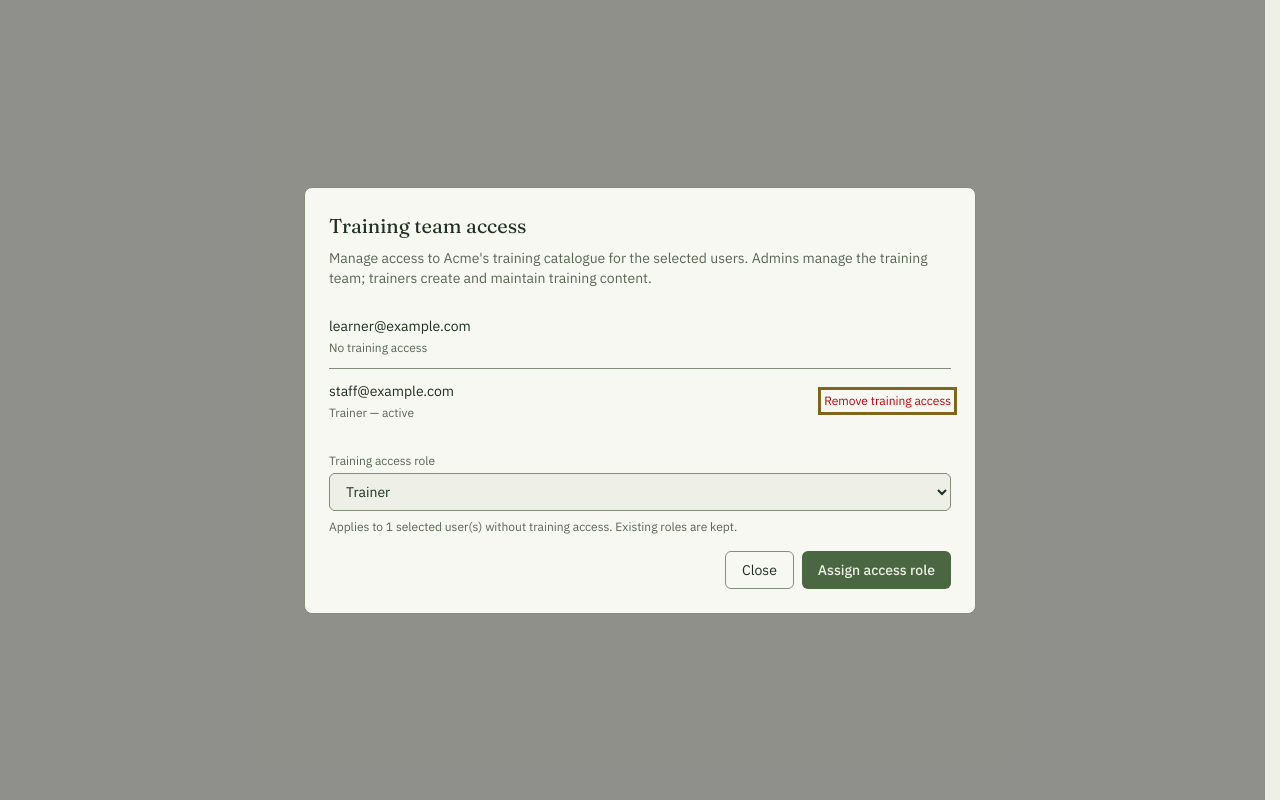
Training team access selection action › requests the chosen role only for selected users without access
Step 1. Select "Admin" in the dropdown labelled "Training access role" → (640, 492), box [329, 472, 951, 510]
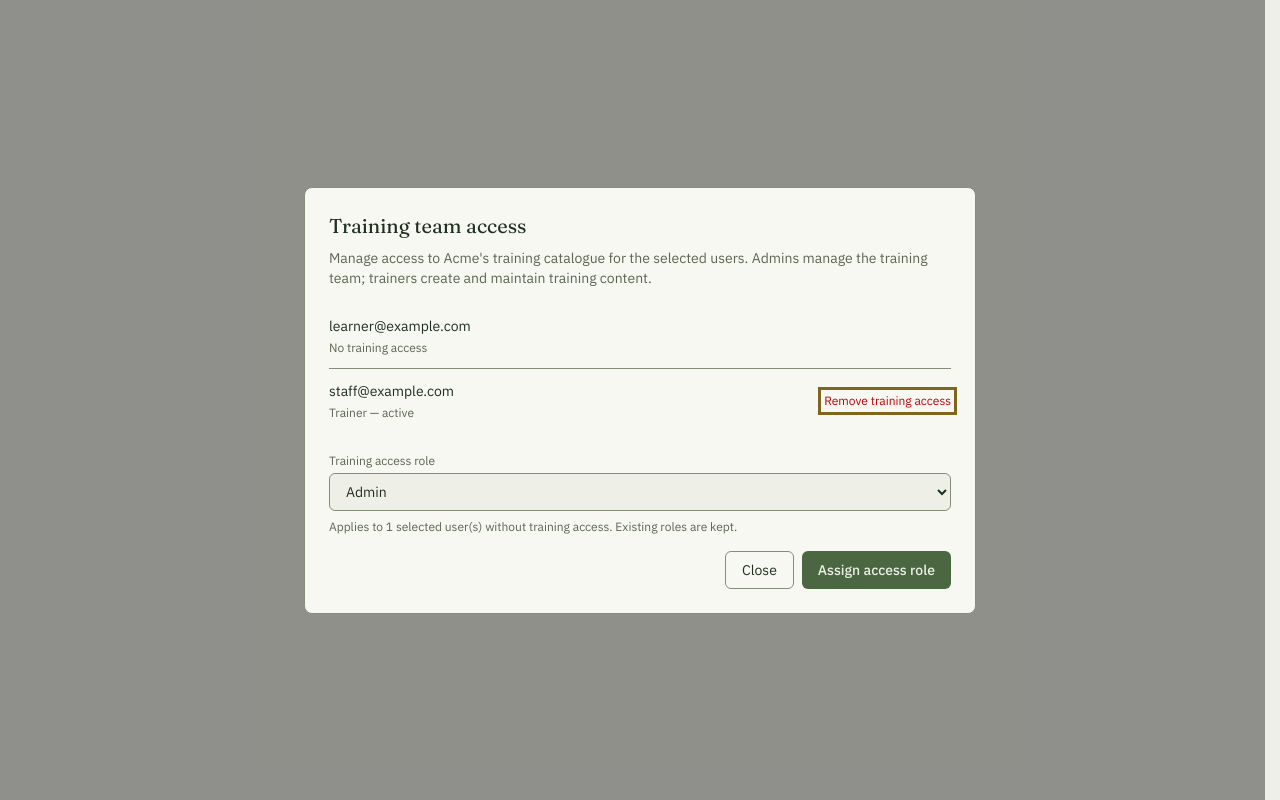
Step 2. Click the button "Assign access role" → (876, 570), box [802, 550, 951, 588]
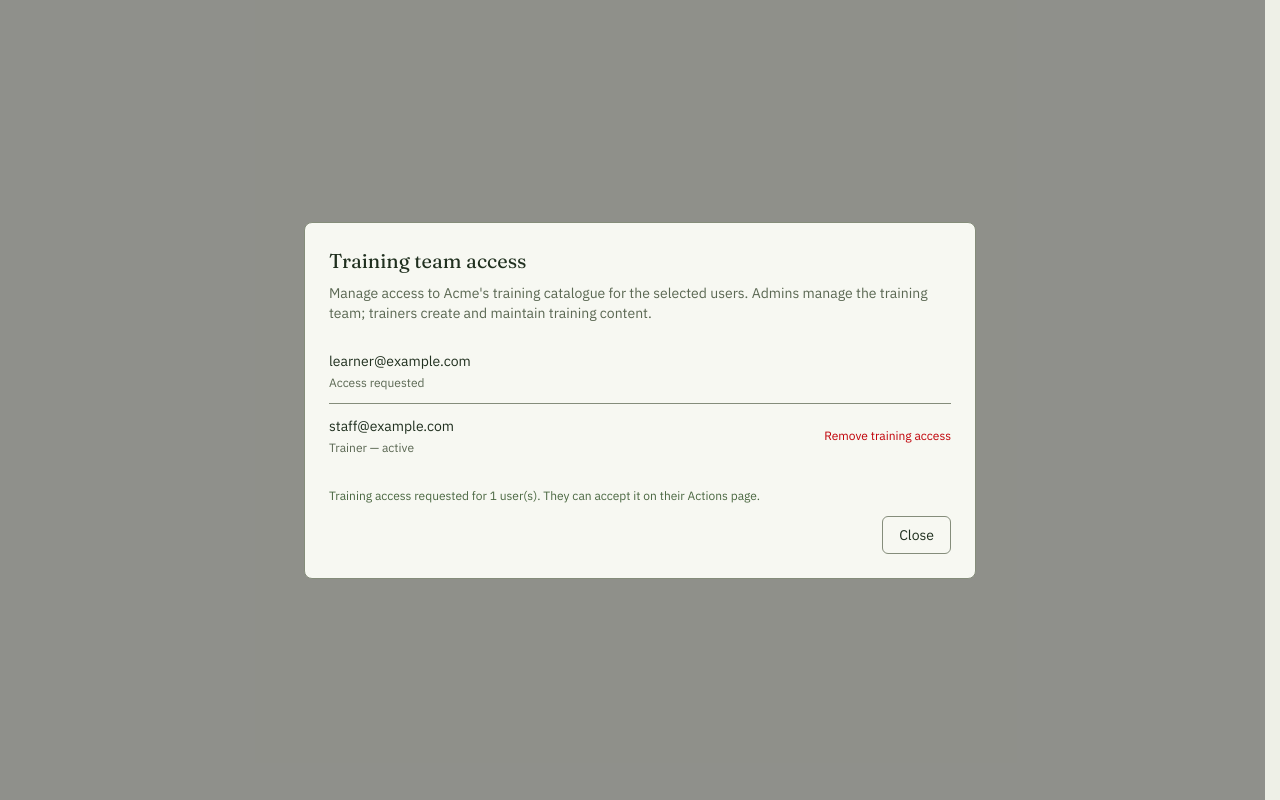
Result: the text "Training access requested for 1 user" is shown at [329, 488, 760, 502]
